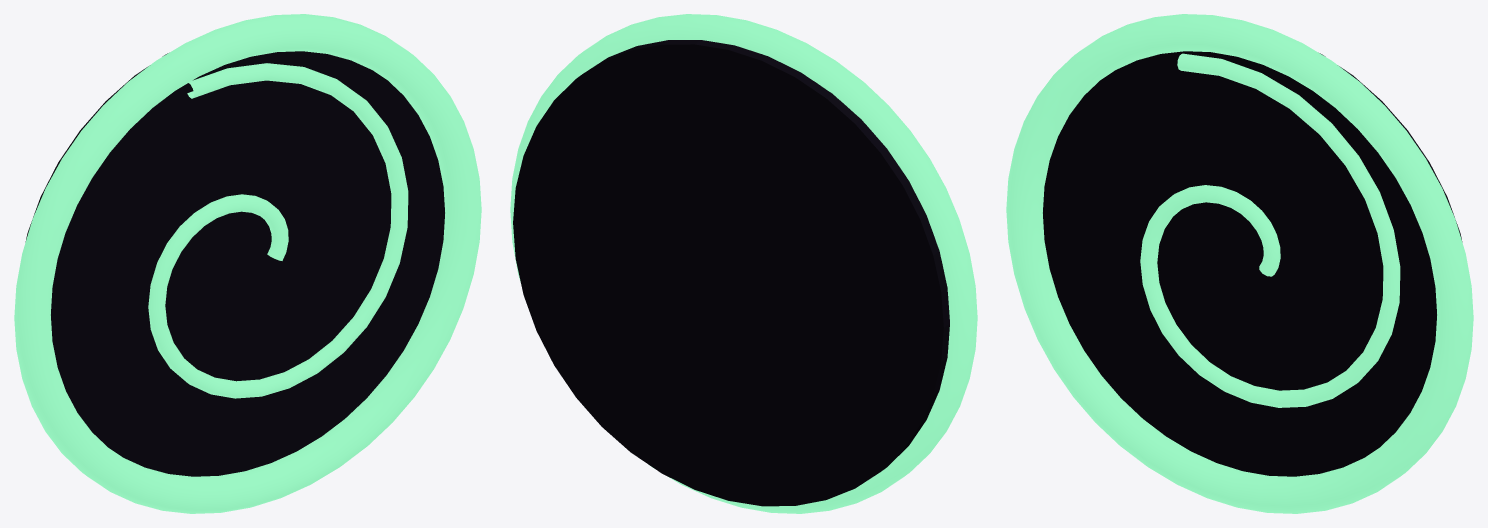
File: portal_1.glb
3 renders of one model, left to right at view 1: azimuth 30°, elevation 25°; view 2: azimuth 150°, elevation 25°; view 3: azimuth 330°, elevation 25°, orthographic.
Parts seen in each view (by area): view 1: type_portal_1; view 2: type_portal_1; view 3: type_portal_1.
Part boxes in pixels (x1,y1,x2,y2): type_portal_1: (14, 14, 481, 513); type_portal_1: (510, 14, 977, 513); type_portal_1: (1006, 14, 1473, 513).
Bounding box in the file's own units: 0.8571 × 0.8571 × 0.08.
